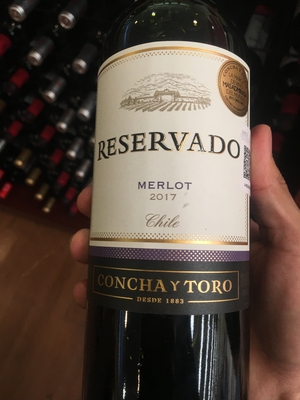reservado merlot: (82, 31, 267, 394)
